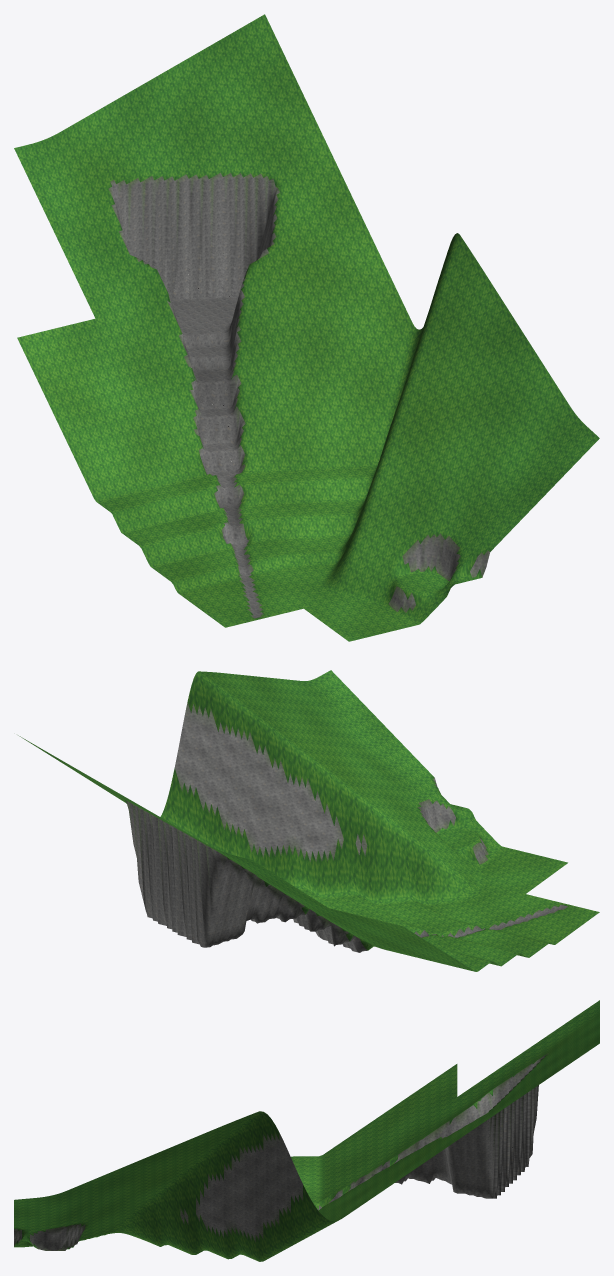
Rendered from payo_land_near_sw.glb.
The picture shows the model from 3 angles, top to bottom: view 1: azimuth 30°, elevation 25°; view 2: azimuth 150°, elevation 25°; view 3: azimuth 270°, elevation 25°; orthographic projection. The views are drawn at different scales.
Parts seen in each view (by area): view 1: payo_land_near_sw; view 2: payo_land_near_sw; view 3: payo_land_near_sw.
Part boxes in pixels (bbox=[...]): payo_land_near_sw: bbox=[14, 14, 599, 641]; payo_land_near_sw: bbox=[18, 670, 599, 971]; payo_land_near_sw: bbox=[14, 1000, 599, 1261].
Size of the model in its own units: 126 by 118 by 222.
2 materials, 2 textured.
